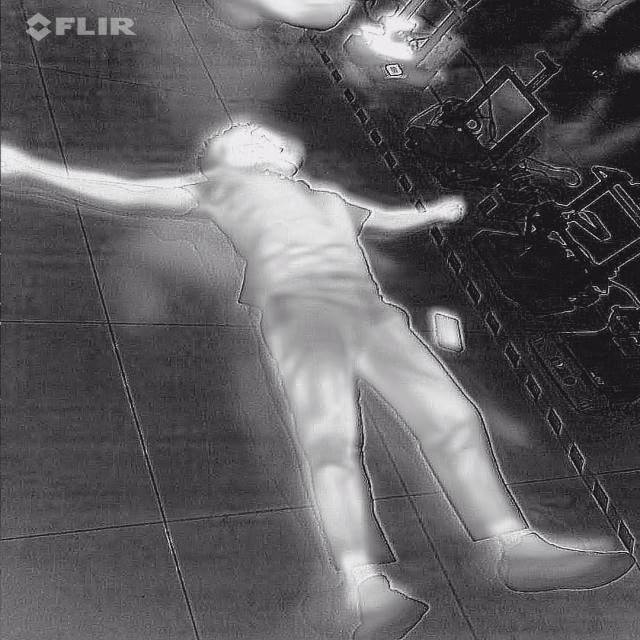Victim: (0, 115, 633, 637)
